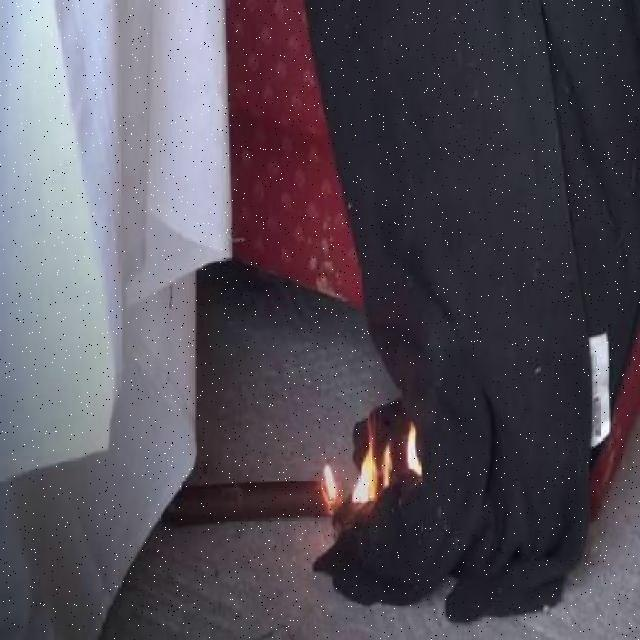smoke: (352, 416, 378, 504), (404, 420, 426, 479), (318, 460, 343, 503), (381, 440, 396, 488)
